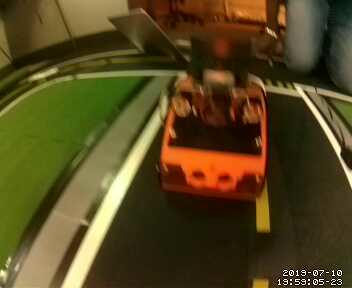pheeno: (158, 33, 269, 204)
